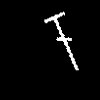double_crochet: (45, 12, 78, 69)
